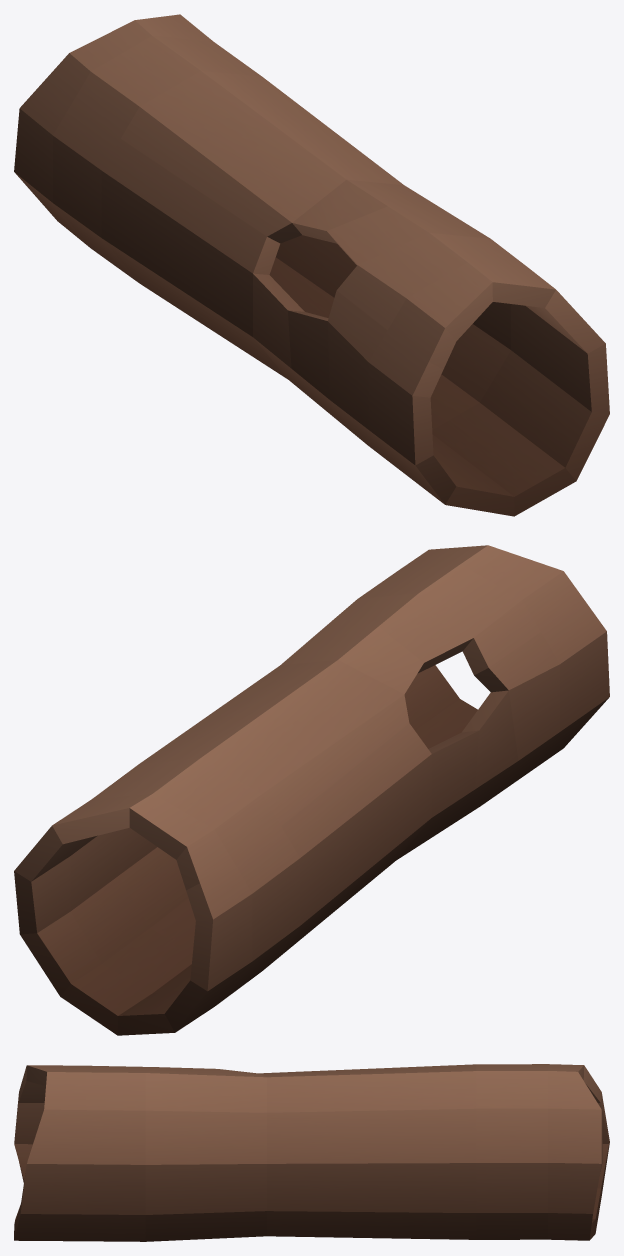
Rendered from kłoda4.fbx.
3 renders of one model, top to bottom at view 1: azimuth 30°, elevation 25°; view 2: azimuth 150°, elevation 25°; view 3: azimuth 270°, elevation 25°, orthographic. The views are drawn at different scales.
Parts seen in each view (by area): view 1: kłoda4; view 2: kłoda4; view 3: kłoda4.
Part boxes in pixels (<box>): kłoda4: <box>14,14,609,516</box>; kłoda4: <box>14,545,609,1035</box>; kłoda4: <box>14,1064,609,1241</box>.
Bounding box in the file's own units: 196 × 200 × 666.
